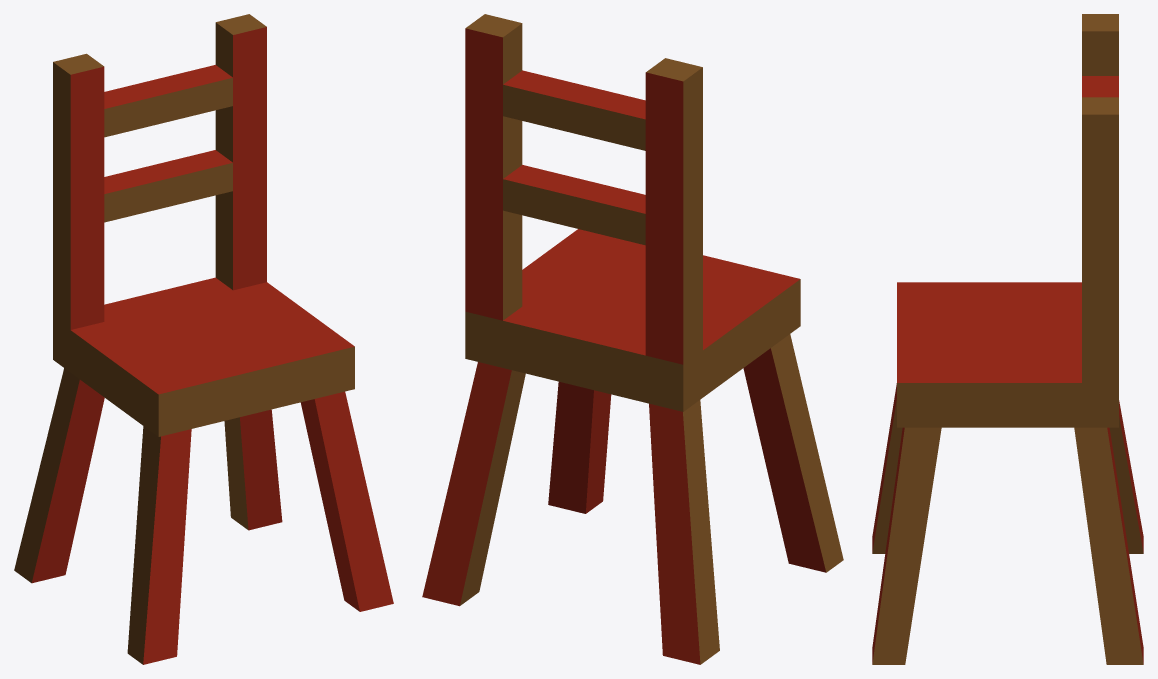
3 renders of one model, left to right at view 1: azimuth 30°, elevation 25°; view 2: azimuth 150°, elevation 25°; view 3: azimuth 270°, elevation 25°, orthographic. The views are drawn at different scales.
Size of the model in its own units: 74 by 144 by 66.
Materials: 1 (1 with a texture image).
